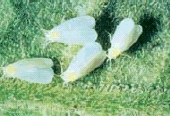whitefly: (58, 42, 106, 86), (102, 18, 143, 66), (41, 15, 97, 48), (3, 57, 54, 84)
